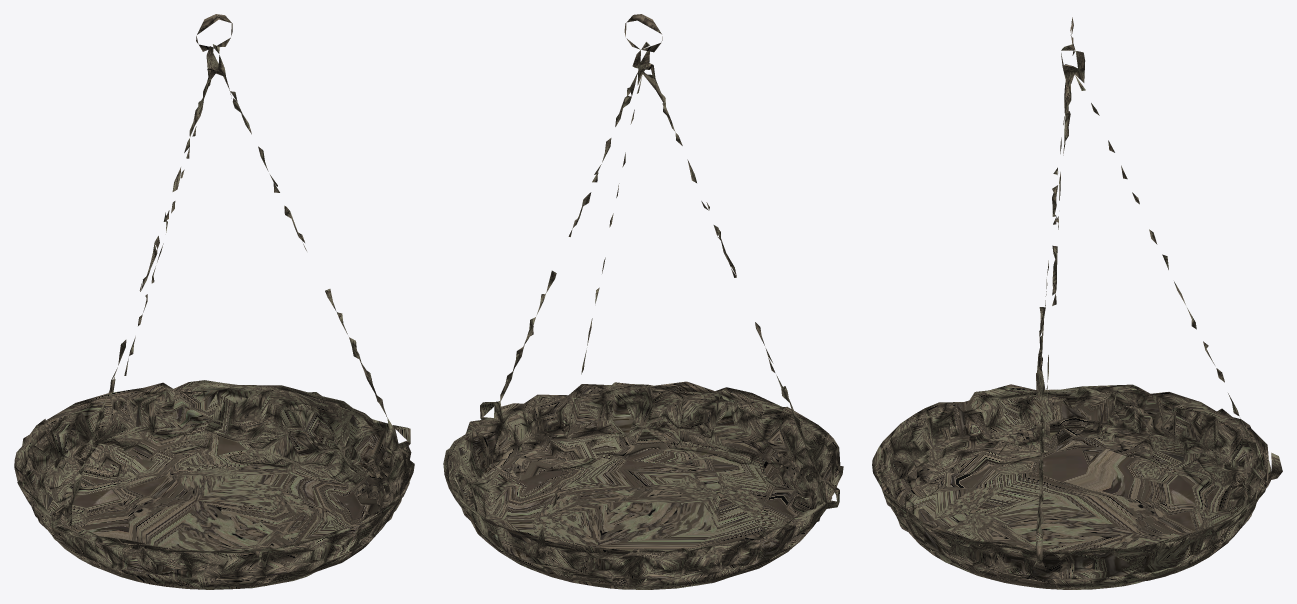
The model's file is scale-pan.glb.
3 renders of one model, left to right at view 1: azimuth 30°, elevation 25°; view 2: azimuth 150°, elevation 25°; view 3: azimuth 270°, elevation 25°, orthographic.
Parts seen in each view (by area): view 1: output_unwrapped; view 2: output_unwrapped; view 3: output_unwrapped.
Boxes of the visible parts, x1,y1,x2,y2 form: output_unwrapped: (14,14,414,589); output_unwrapped: (443,14,843,589); output_unwrapped: (872,17,1282,589).
Size of the model in its own units: 1.37 by 1.9 by 1.37.
Materials: 1 (1 with a texture image).
